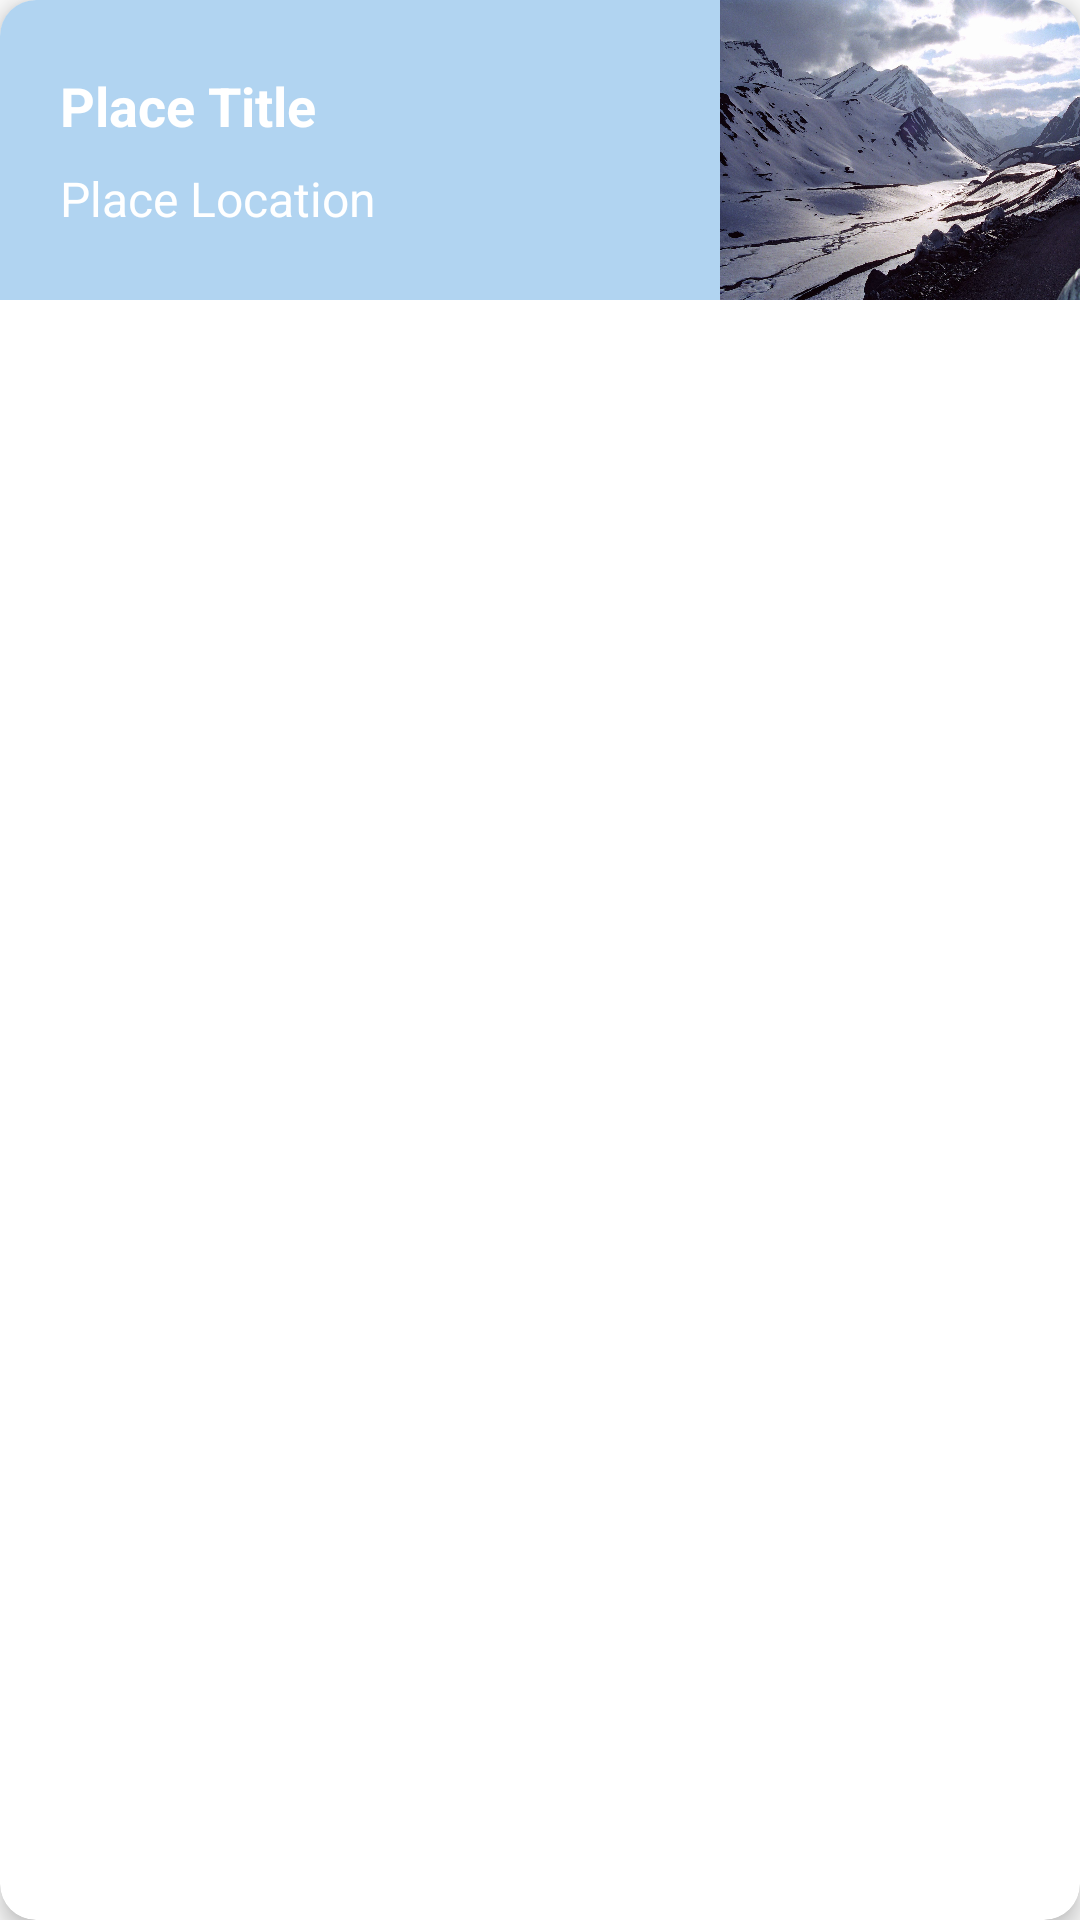

Icon click points for this 1080x1920 phone screenshot, format (x,y):
Visit Manali: (900,150)
